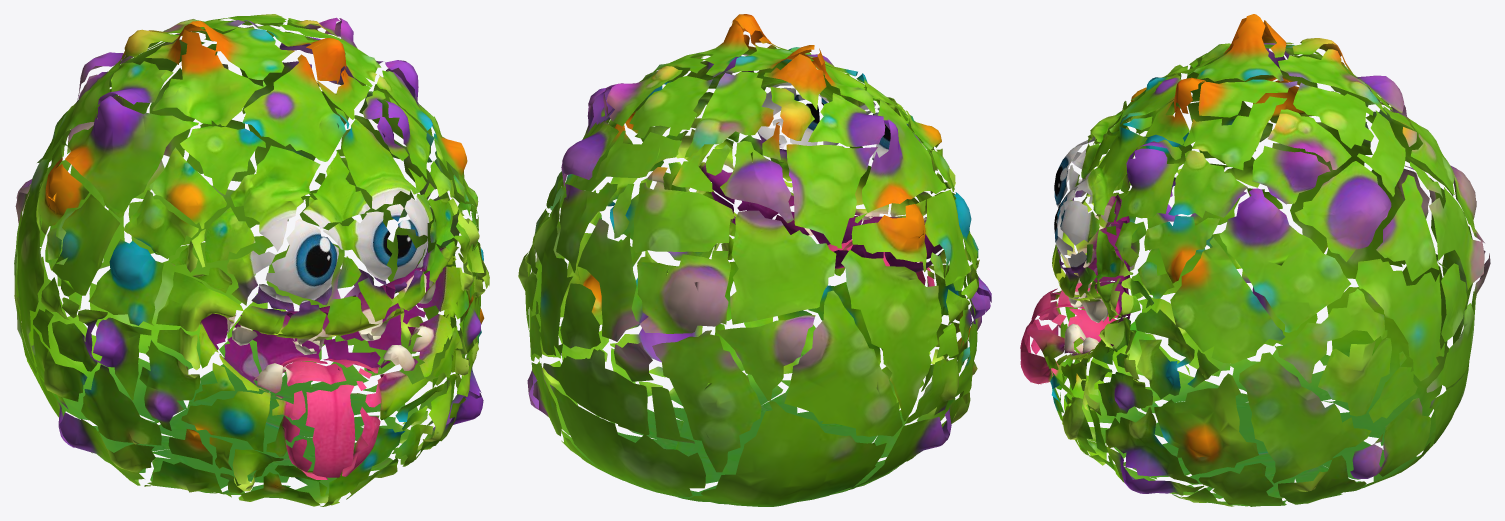
File: boule.glb
3 renders of one model, left to right at view 1: azimuth 30°, elevation 25°; view 2: azimuth 150°, elevation 25°; view 3: azimuth 270°, elevation 25°, orthographic. The views are drawn at different scales.
Parts seen in each view (by area): view 1: mesh_node; view 2: mesh_node; view 3: mesh_node.
Boxes of the visible parts, left/top/right/bottom form: mesh_node: left=14, top=14, right=489, bottom=506; mesh_node: left=518, top=14, right=991, bottom=506; mesh_node: left=1020, top=14, right=1490, bottom=506.
Bounding box in the file's own units: 1.82 × 1.79 × 1.9.
1 material, 1 textured.
